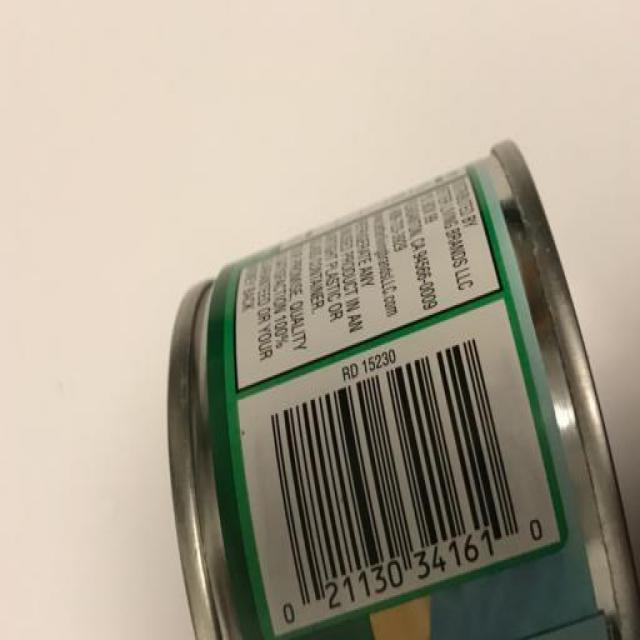metel: (162, 129, 640, 640)
